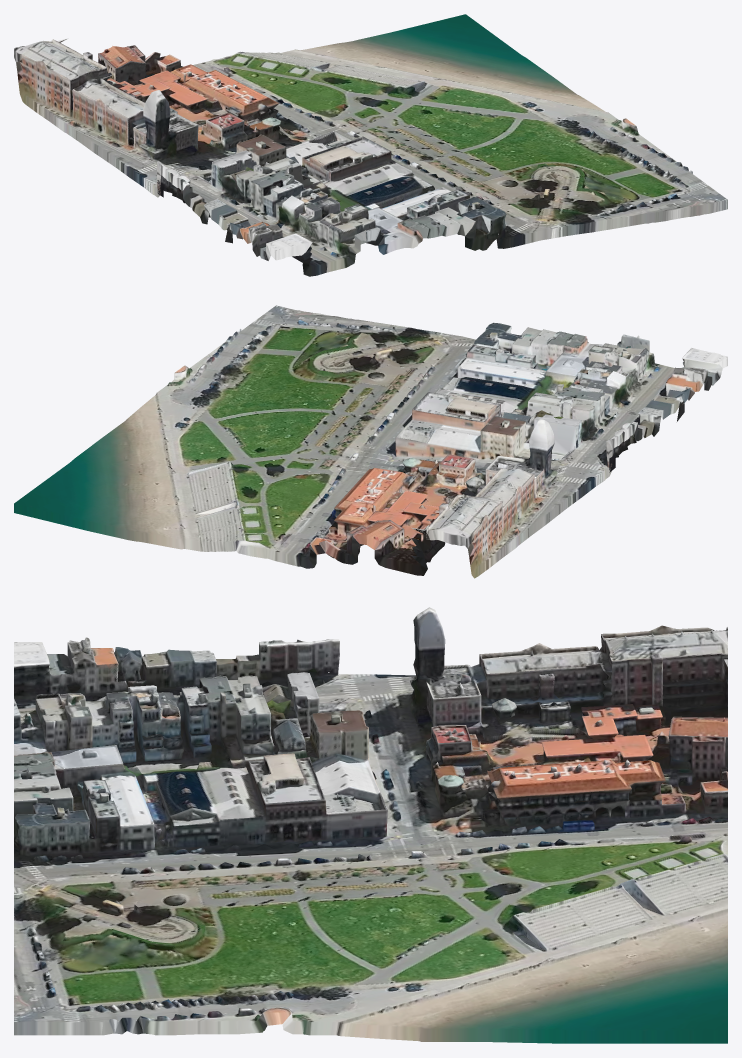
File: z17-20963-50647-h0-yup-uvflip-v3-world.glb
The picture shows the model from 3 angles, top to bottom: view 1: azimuth 30°, elevation 25°; view 2: azimuth 150°, elevation 25°; view 3: azimuth 270°, elevation 25°; orthographic projection. The views are drawn at different scales.
Size of the model in its own units: 241 by 58.88 by 243.
1 material, 1 textured.
